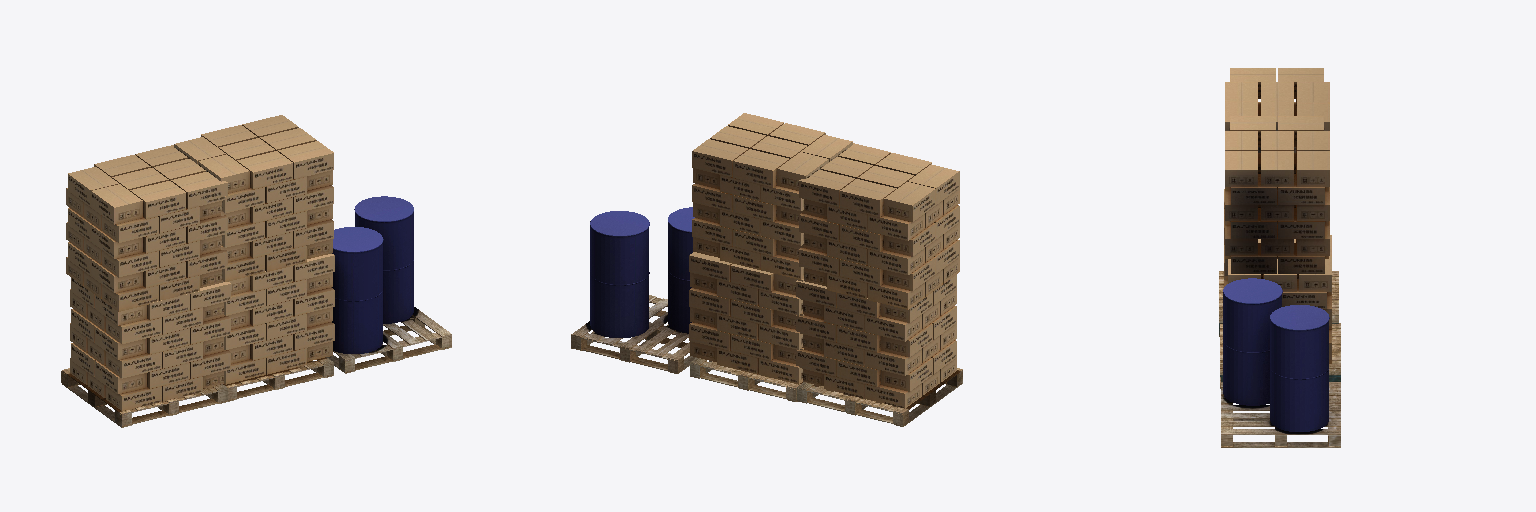
3 renders of one model, left to right at view 1: azimuth 30°, elevation 25°; view 2: azimuth 150°, elevation 25°; view 3: azimuth 270°, elevation 25°, orthographic.
Parts seen in each view (by area): view 1: Box722, Box719, Box721, Box642, Cylinder18, Box385, Box720, Box718; view 2: Box722, Box719, Box721, Box642, Cylinder18, Box385, Box720, Box718; view 3: Box719, Cylinder18, Box722, Box385, Box642, Box718, Box720.
Part boxes in pixels (bbox=[...]): Box722: bbox=[66, 145, 227, 311]; Box719: bbox=[174, 115, 333, 281]; Box721: bbox=[70, 278, 230, 410]; Box642: bbox=[224, 254, 334, 384]; Cylinder18: bbox=[332, 196, 413, 353]; Box385: bbox=[327, 307, 451, 373]; Box720: bbox=[61, 368, 227, 427]; Box718: bbox=[223, 357, 333, 401]; Box722: bbox=[799, 143, 959, 309]; Box719: bbox=[692, 113, 852, 279]; Box721: bbox=[796, 275, 956, 408]; Box642: bbox=[689, 252, 803, 384]; Cylinder18: bbox=[590, 207, 694, 337]; Box385: bbox=[571, 295, 696, 373]; Box720: bbox=[797, 368, 962, 426]; Box718: bbox=[690, 358, 815, 401]; Box719: bbox=[1225, 116, 1329, 273]; Cylinder18: bbox=[1223, 278, 1329, 431]; Box722: bbox=[1225, 68, 1329, 152]; Box385: bbox=[1221, 382, 1340, 447]; Box642: bbox=[1228, 235, 1331, 363]; Box718: bbox=[1220, 323, 1340, 388]; Box720: bbox=[1219, 271, 1338, 336].
Size of the model in its own units: 306 by 194 by 97.23.
Materials: 4 (4 with a texture image).